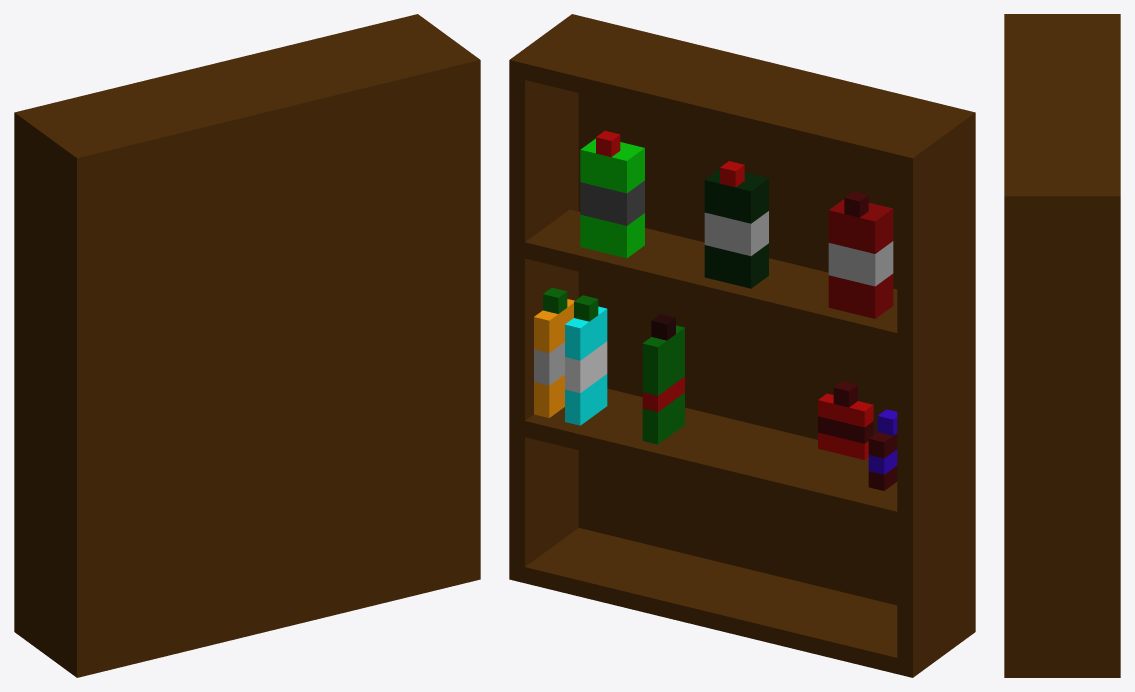
Rendered from cupboardwithalcohol.obj.
The picture shows the model from 3 angles, left to right: view 1: azimuth 30°, elevation 25°; view 2: azimuth 150°, elevation 25°; view 3: azimuth 270°, elevation 25°; orthographic projection. The views are drawn at different scales.
Bounding box in the file's own units: 2.6 × 3.2 × 0.7.
Materials: 1 (1 with a texture image).
